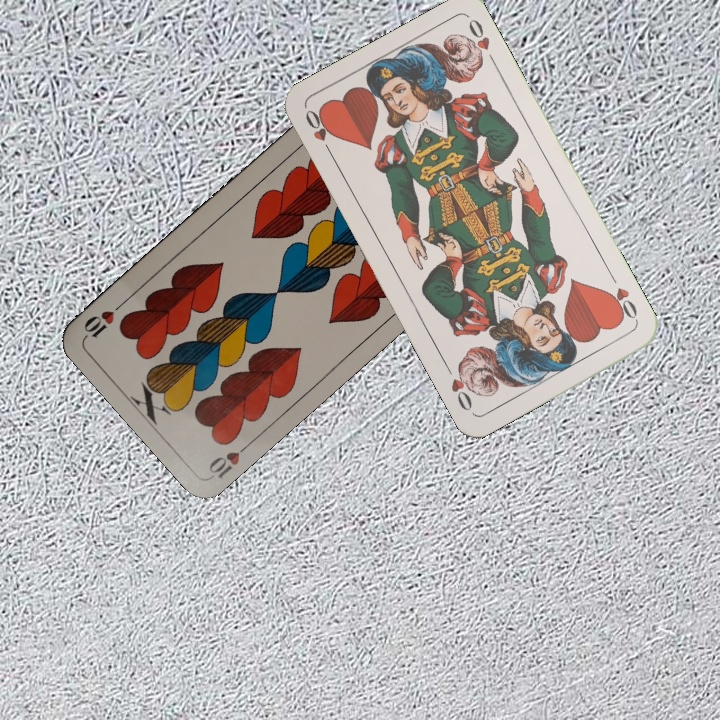H10: (204, 436, 255, 481)
HO: (603, 269, 640, 323), (301, 105, 337, 160)
